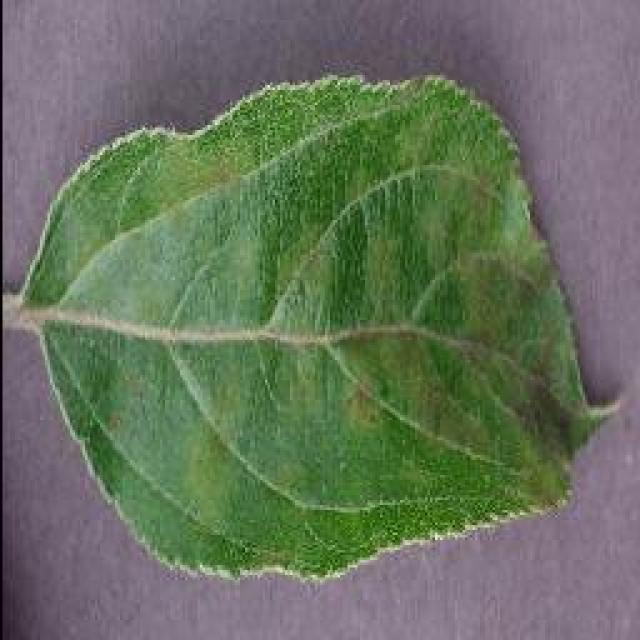apple scab disease: (12, 70, 620, 582)
